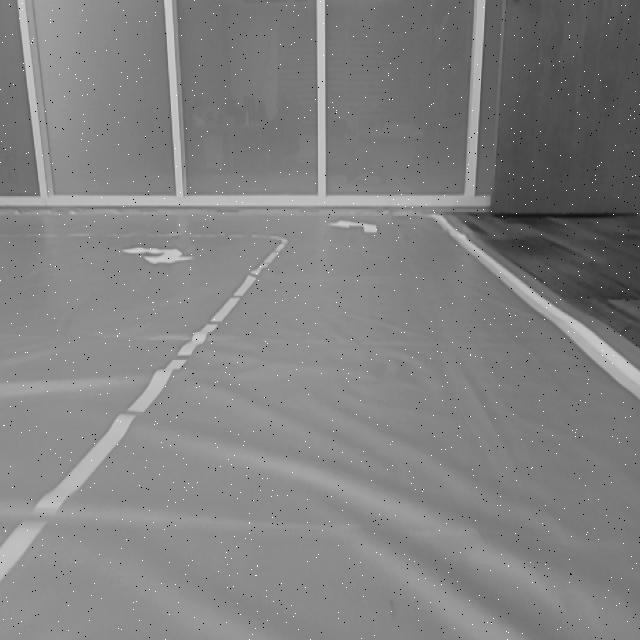left_lane: (0, 242, 289, 583)
right_lane: (434, 216, 640, 400)
